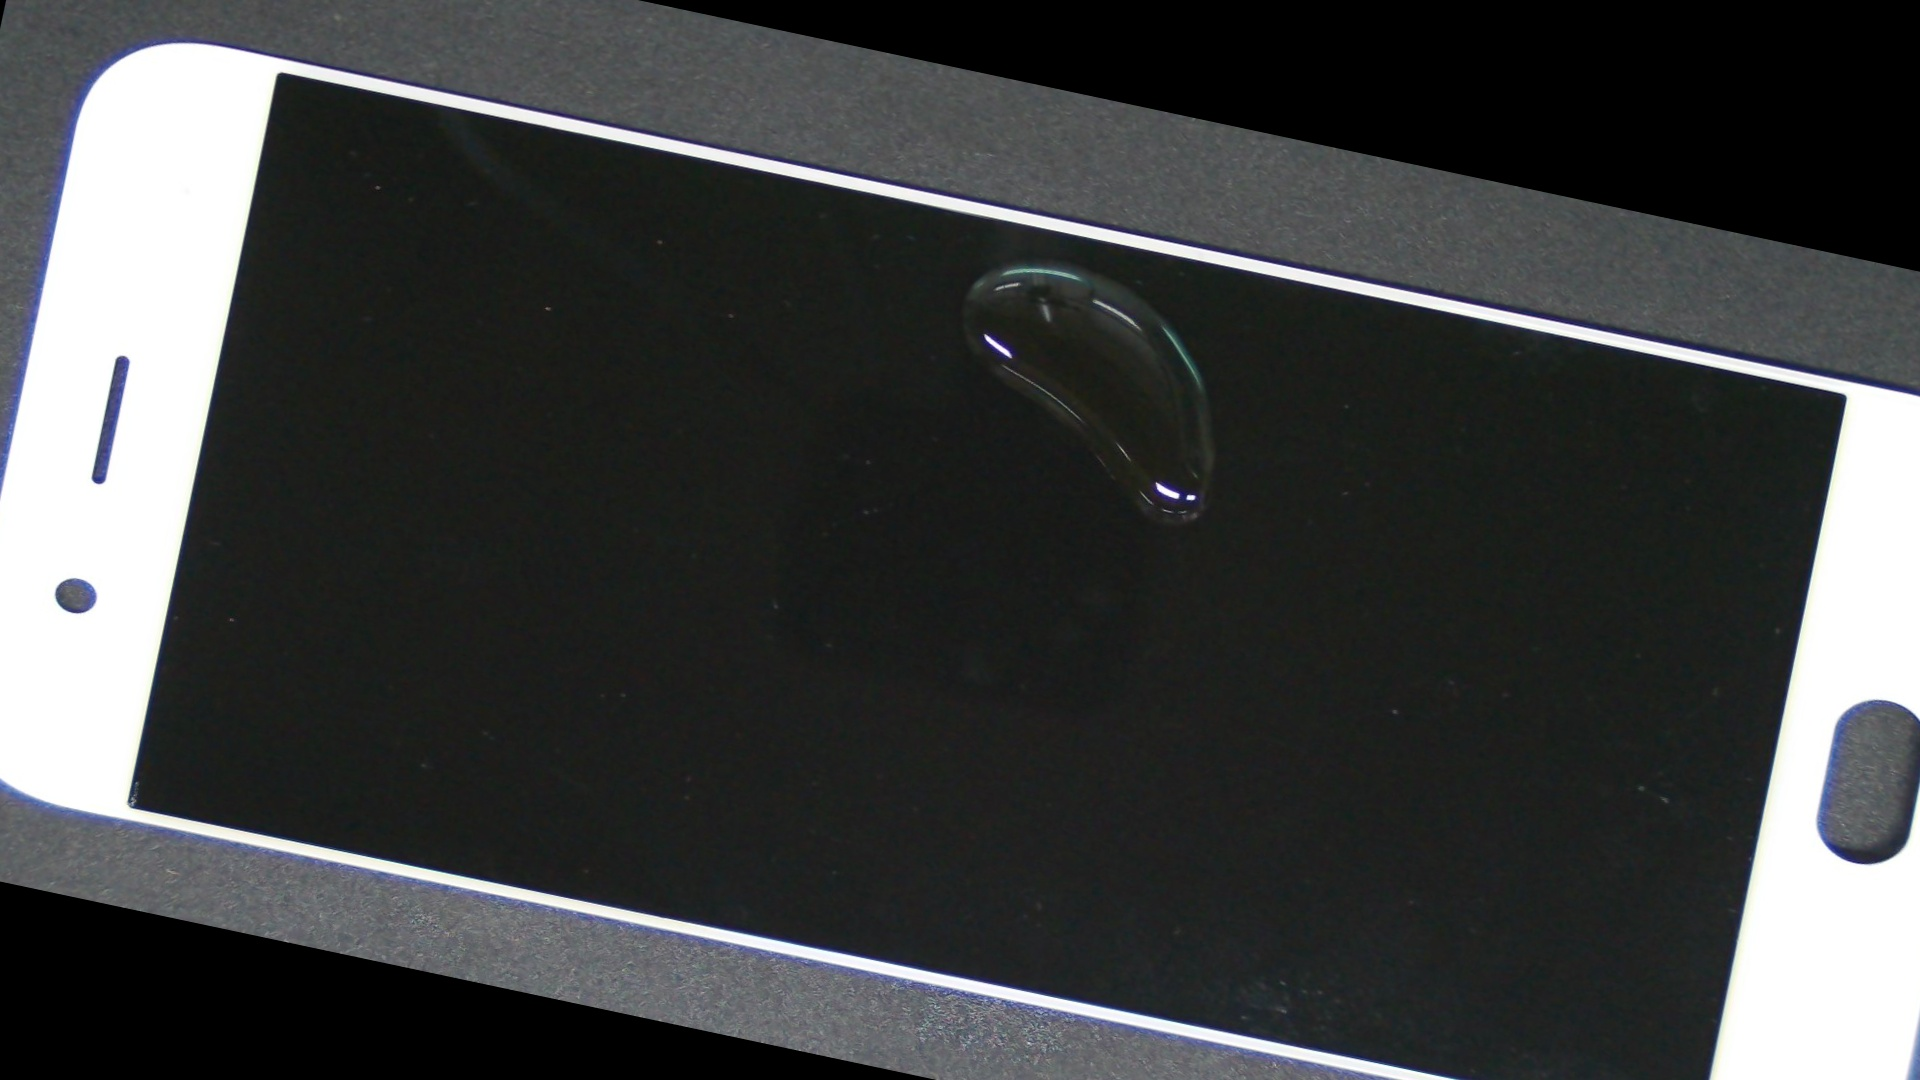oil: (513, 65, 1609, 454)
